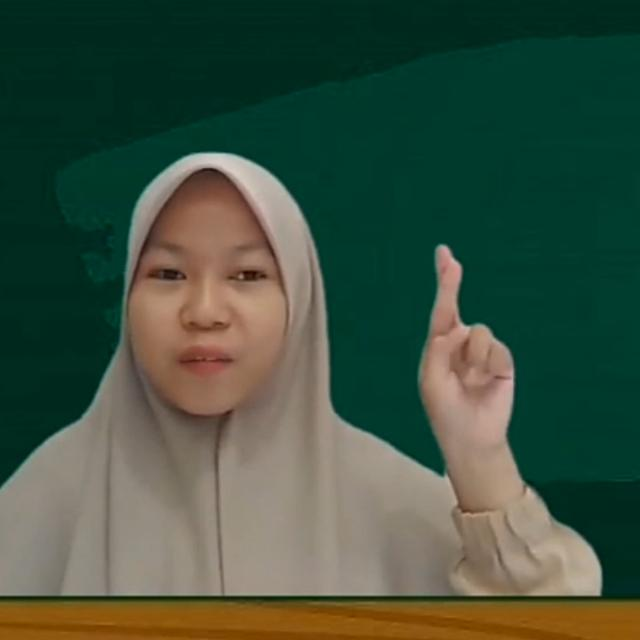R: (408, 234, 528, 456)
